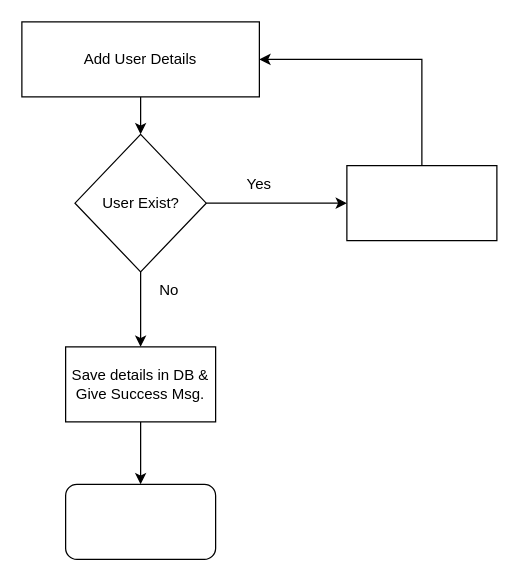
Some shapes in this 519 by 581 pixel diagram are drawn without their labels. Here are the shapes that lost their labels. From the top down, the box of each, then its label:
(346, 164, 497, 241): Give User exist message.
(64, 483, 216, 559): Stop
